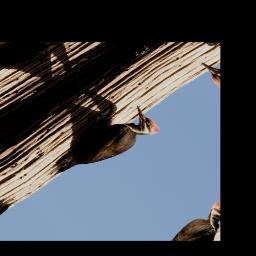Woodpecker: (36, 93, 162, 194)
